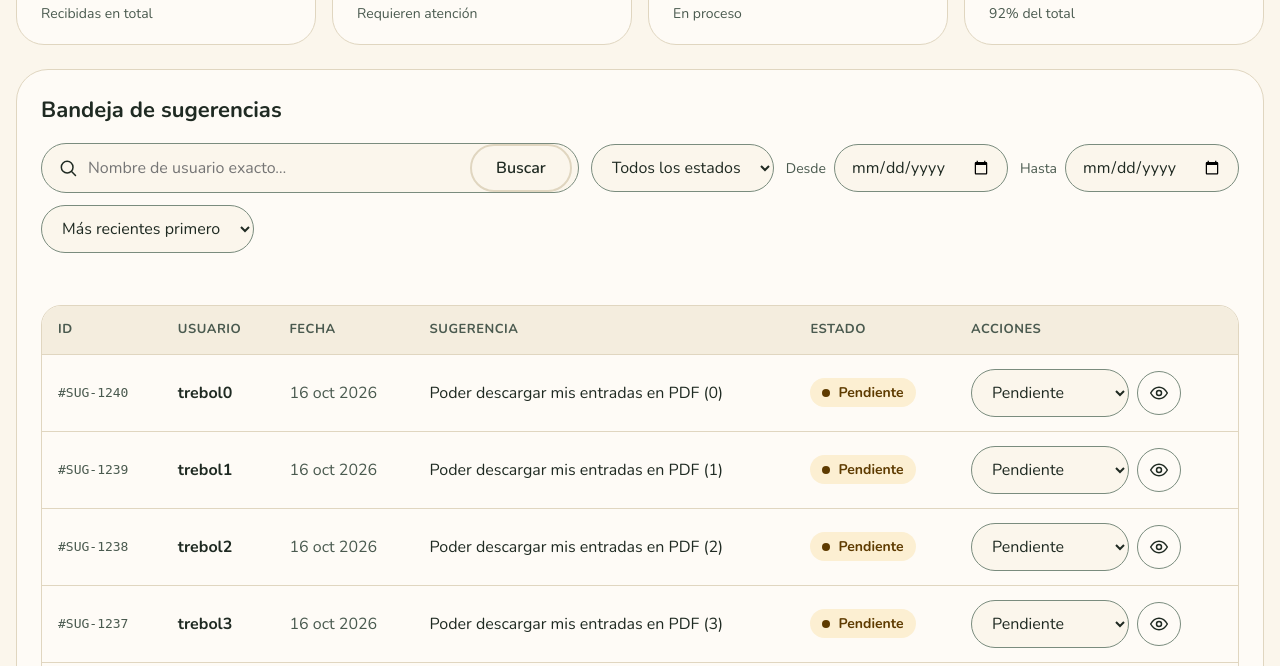
it: PanelSugerencias cuando la fuente también resume y permite cambiar el estado (HU-11) › si no se puede cambiar el estado, avisa con amabilidad
(page scrolled)
Expected: the text "trebol0" is shown, [162,354,273,431]
Select "Rechazada" in the dropdown named "Estado de la sugerencia SUG-1240". click: [1050, 392]
box: [971,368,1129,416]
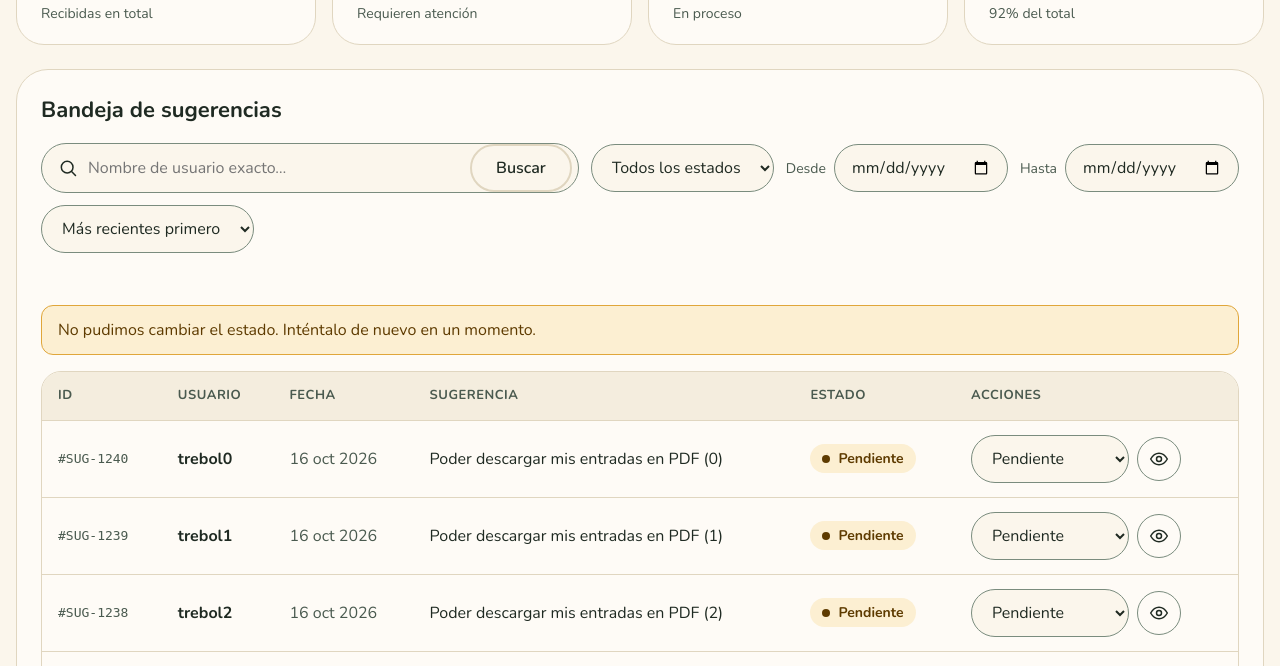
Now the message shows "No pudimos cambiar el estado", box [58,319,536,341]
